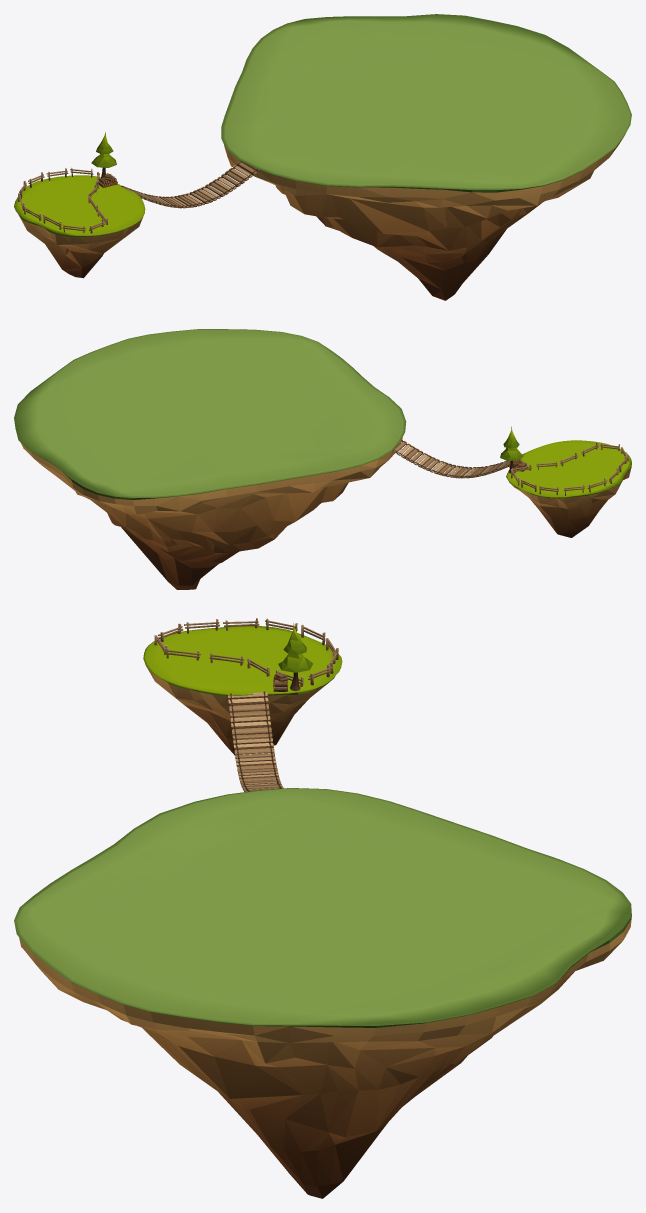
Rendered from Island.fbx.
3 renders of one model, top to bottom at view 1: azimuth 30°, elevation 25°; view 2: azimuth 150°, elevation 25°; view 3: azimuth 270°, elevation 25°, orthographic. The views are drawn at different scales.
Visible parts, largest first — view 1: island_B_02, island_A_01, bridge_C_04, pine_A_04; view 2: island_B_02, island_A_01, bridge_C_04, pine_A_04; view 3: island_B_02, island_A_01, bridge_C_04, pine_A_04.
Part boxes in pixels (x1,y1,x2,y2): island_B_02: (221,14,631,300); island_A_01: (14,175,145,278); bridge_C_04: (121,161,260,208); pine_A_04: (91,132,116,178); island_B_02: (14,329,406,589); island_A_01: (506,440,631,537); bridge_C_04: (392,439,525,478); pine_A_04: (500,426,523,473); island_B_02: (14,788,631,1198); island_A_01: (143,625,342,755); bridge_C_04: (228,691,283,791); pine_A_04: (278,623,313,691).
Size of the model in its own units: 2286 by 953 by 1536.
Materials: 1 (1 with a texture image).
